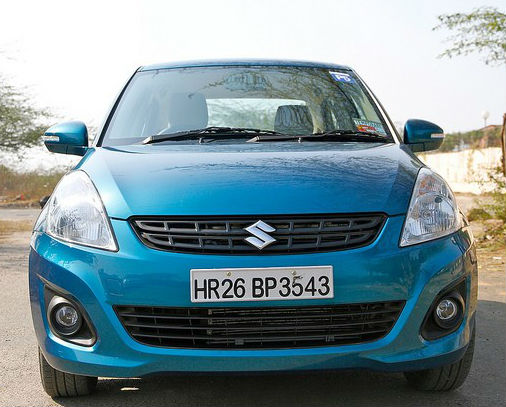number_plate: (178, 264, 343, 320)
